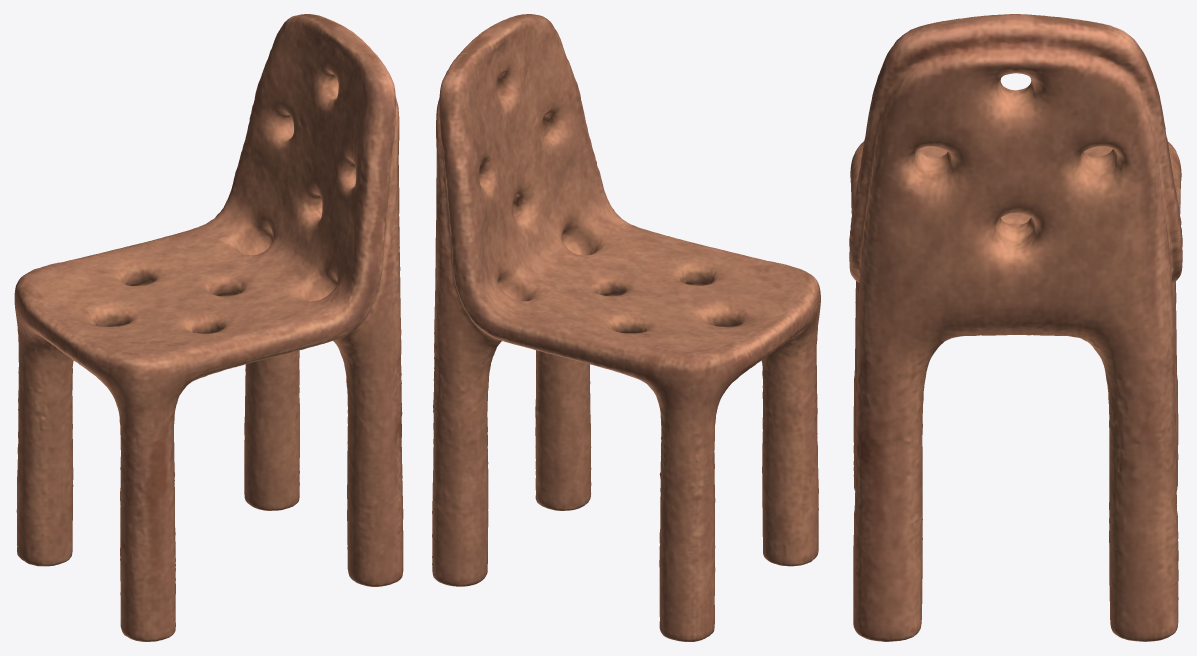
Rendered from Sculptural Copper Art Chair [lm4fH7].glb.
The picture shows the model from 3 angles, left to right: view 1: azimuth 30°, elevation 25°; view 2: azimuth 150°, elevation 25°; view 3: azimuth 270°, elevation 25°; orthographic projection. The views are drawn at different scales.
Visible parts, largest first — view 1: world; view 2: world; view 3: world.
Part boxes in pixels (x1,y1,x2,y2): world: [14, 14, 403, 641]; world: [432, 14, 820, 641]; world: [849, 14, 1182, 641].
Bounding box in the file's own units: 0.6455 × 1 × 0.483.
Materials: 1 (1 with a texture image).
